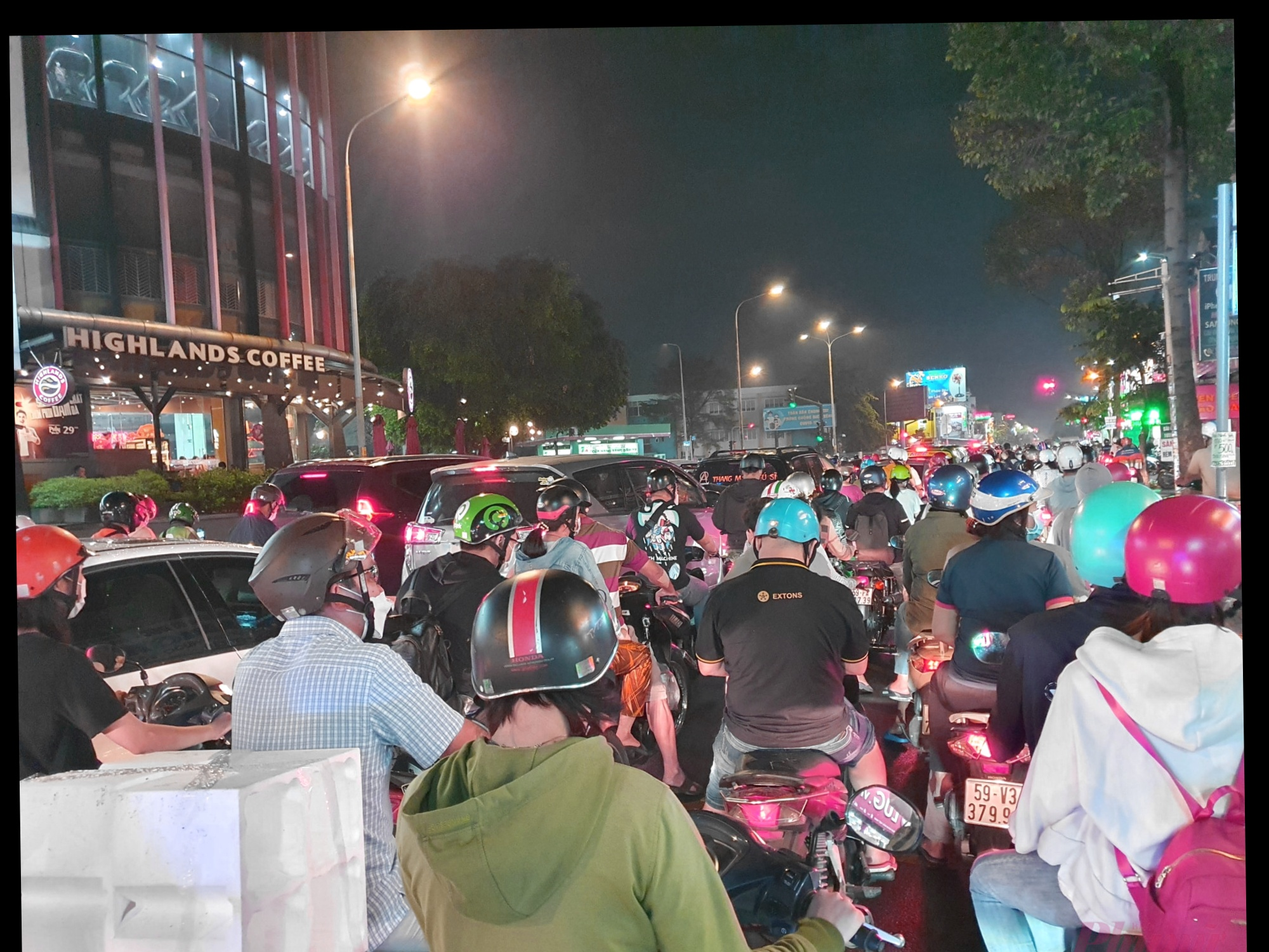Bien-so: (1007, 707, 1063, 764)
